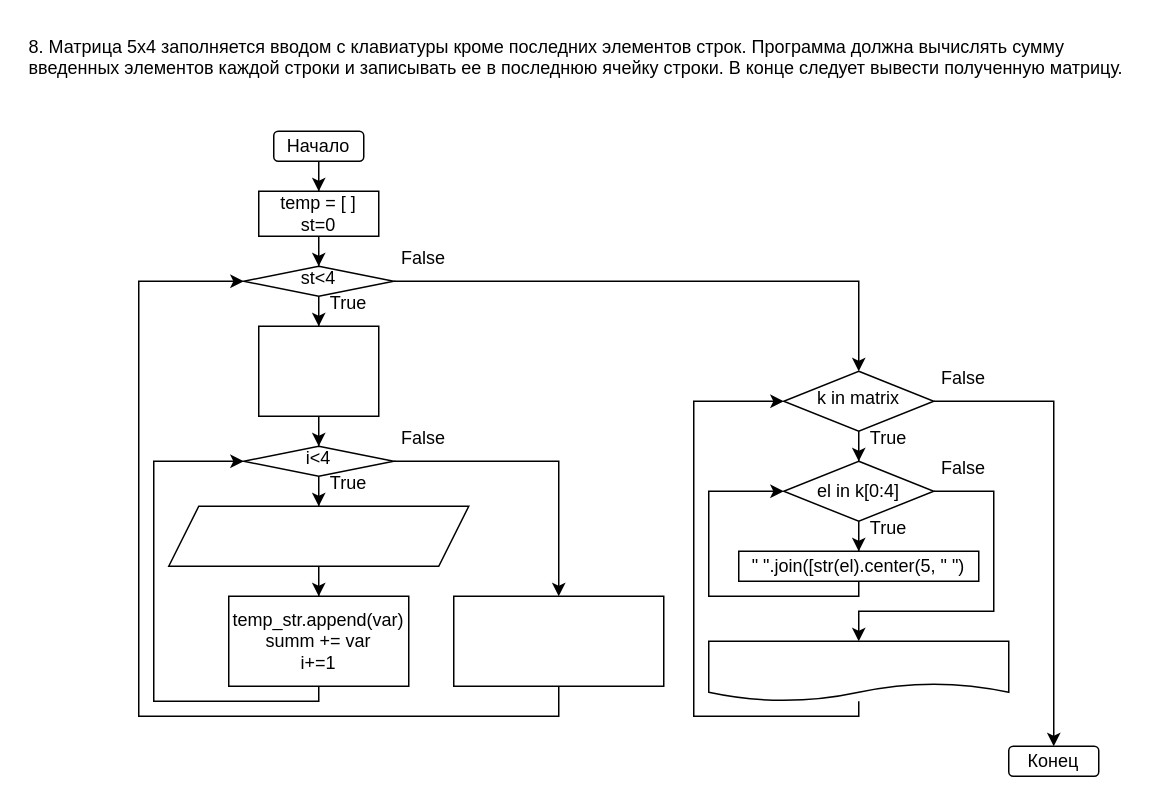
The diagram is 1154 pixels wide and 803 high, and some of its shapes have lost their labels. The centre of each missing label's shape, as x and y in pixels:
"..join.."+ " | " + str(k[4]).center(5, " "): pixel 858 670
temp_str = [] summ = 0 i=0: pixel 318 370
temp_str.append(summ) temp.append(temp_str) st+=1: pixel 558 640
var = int(input(f'Введите {i + 1} элемент {st + 1} строки: ')): pixel 318 535
